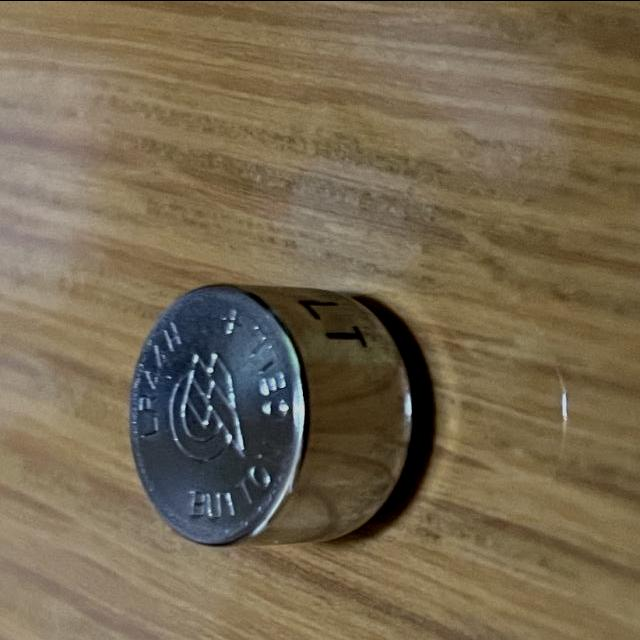COIN: (130, 284, 424, 544)
